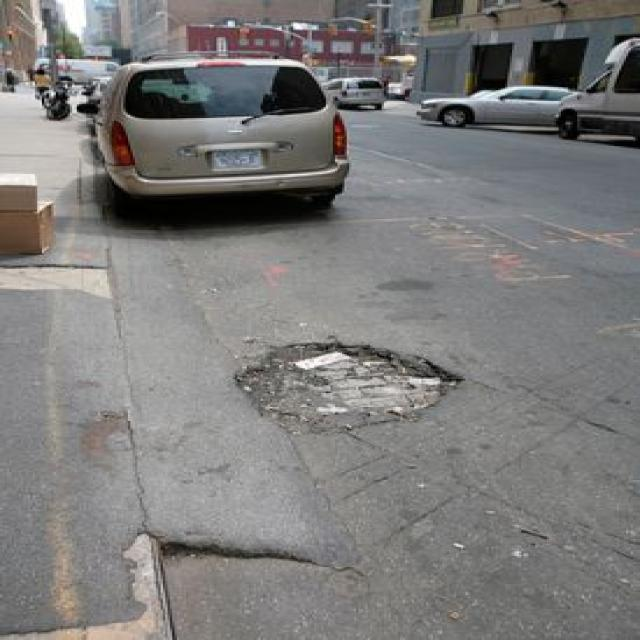Pothole: (225, 337, 462, 432)
